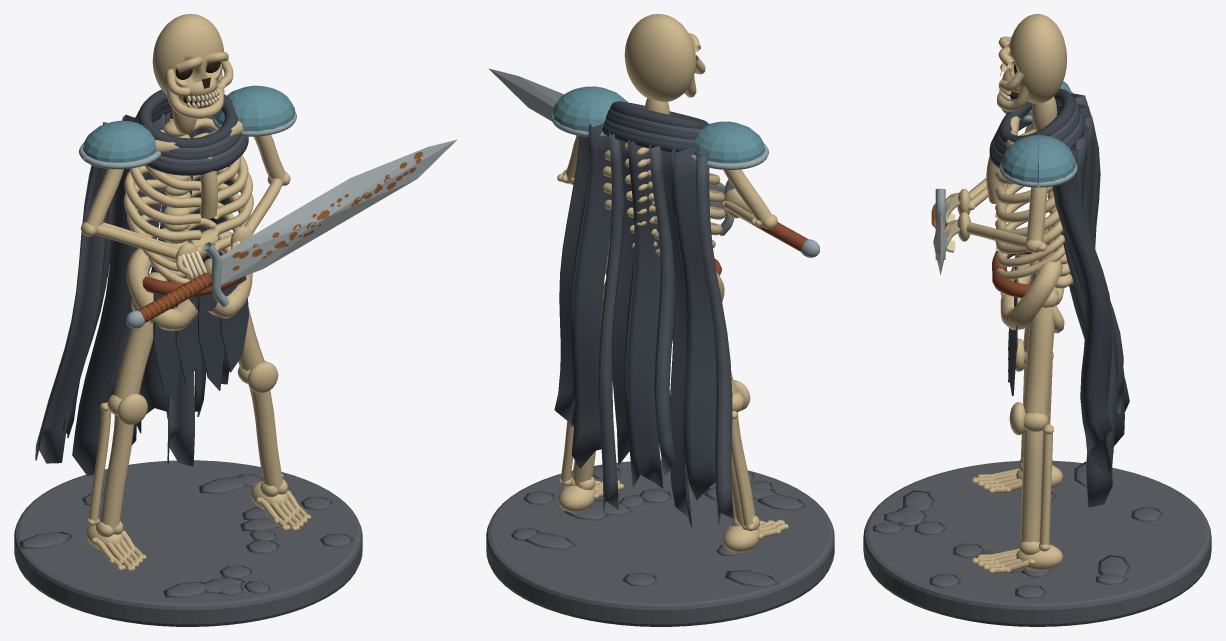
Rendered from skeleton-warrior.glb.
3 views of the same model, side by side, from view 1: azimuth 30°, elevation 25°; view 2: azimuth 150°, elevation 25°; view 3: azimuth 270°, elevation 25° (orthographic).
Parts seen in each view (by area): view 1: Basalt, Aged ivory, Charcoal cloth, Cloth folds, Blade, Oxidized blue armor, Worn metal edges, Rust, Oxblood leather, Teeth; view 2: Charcoal cloth, Basalt, Cloth folds, Aged ivory, Oxidized blue armor, Blade, Worn metal edges, Oxblood leather; view 3: Basalt, Aged ivory, Charcoal cloth, Cloth folds, Oxidized blue armor, Worn metal edges, Oxblood leather, Teeth, Blade.
Boxes of the visible parts, <box> form: Basalt: <box>14,460,362,626</box>; Aged ivory: <box>80,14,310,571</box>; Charcoal cloth: <box>62,89,248,476</box>; Cloth folds: <box>35,101,245,466</box>; Blade: <box>220,139,456,285</box>; Oxidized blue armor: <box>83,85,295,162</box>; Worn metal edges: <box>79,112,296,328</box>; Rust: <box>143,151,422,320</box>; Oxblood leather: <box>138,272,244,322</box>; Teeth: <box>180,88,242,280</box>; Charcoal cloth: <box>554,101,716,526</box>; Basalt: <box>486,460,834,626</box>; Cloth folds: <box>598,108,733,524</box>; Aged ivory: <box>557,14,788,552</box>; Oxidized blue armor: <box>552,86,764,163</box>; Blade: <box>488,68,725,211</box>; Worn metal edges: <box>551,113,819,257</box>; Oxblood leather: <box>714,218,808,275</box>; Basalt: <box>863,460,1211,626</box>; Aged ivory: <box>945,14,1073,573</box>; Charcoal cloth: <box>989,88,1124,476</box>; Cloth folds: <box>992,93,1129,507</box>; Oxidized blue armor: <box>1001,81,1075,184</box>; Worn metal edges: <box>932,92,1077,259</box>; Oxblood leather: <box>933,206,1031,297</box>; Teeth: <box>945,79,1011,252</box>; Blade: <box>933,211,947,274</box>.
Size of the model in its own units: 2.17 by 3 by 1.76.
